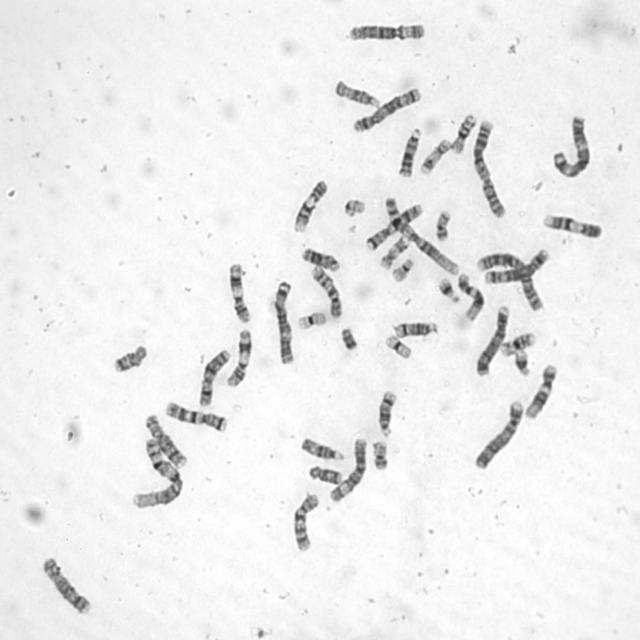A1: (382, 196, 459, 276), (131, 438, 184, 508)
A2: (474, 251, 544, 311), (472, 119, 506, 217)
A3: (549, 114, 592, 182), (275, 278, 294, 367)
B4: (472, 400, 524, 470), (473, 306, 511, 377)
B5: (352, 85, 420, 132), (484, 246, 553, 286)
C10: (310, 265, 342, 317), (291, 496, 320, 551)
C11: (224, 329, 252, 387), (228, 262, 252, 324)
C12: (522, 363, 558, 418), (456, 273, 486, 324)
C6: (325, 437, 367, 506), (345, 21, 439, 43)
C7: (364, 204, 424, 252), (163, 401, 228, 434)
C8: (37, 556, 94, 618), (140, 414, 188, 466)
C9: (292, 178, 329, 235), (540, 214, 604, 240)
D13: (395, 126, 422, 178), (299, 245, 340, 272)
D14: (378, 391, 397, 438), (392, 321, 438, 338)
D15: (333, 78, 380, 109), (299, 437, 346, 463)
E16: (449, 114, 477, 155), (500, 332, 536, 356)
E17: (418, 138, 451, 174), (376, 236, 412, 269)
E18: (115, 343, 148, 376), (306, 466, 342, 486)
F19: (383, 335, 411, 361), (297, 311, 327, 332)
F20: (433, 210, 453, 243), (373, 440, 389, 471)
G21: (434, 278, 460, 306), (512, 347, 529, 375)
G22: (391, 258, 416, 286), (343, 197, 368, 219)
X: (197, 348, 231, 407)
Y: (339, 321, 362, 358)
